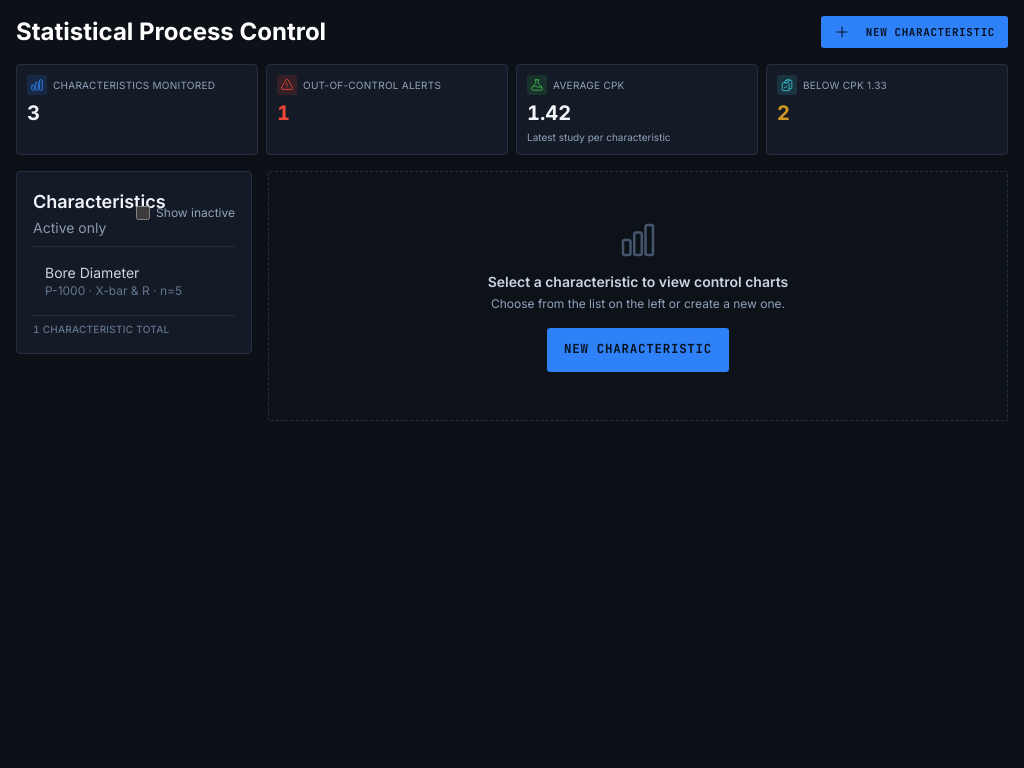
it: SPC page — API contract › renders spec limits, unit and control-limit provenance from the real field names
The image size is (1024, 768).
Click the button "Bore Diameter P-1000 · X-bar & R · n=5" at (132, 280), box 33,254 -> 231,306
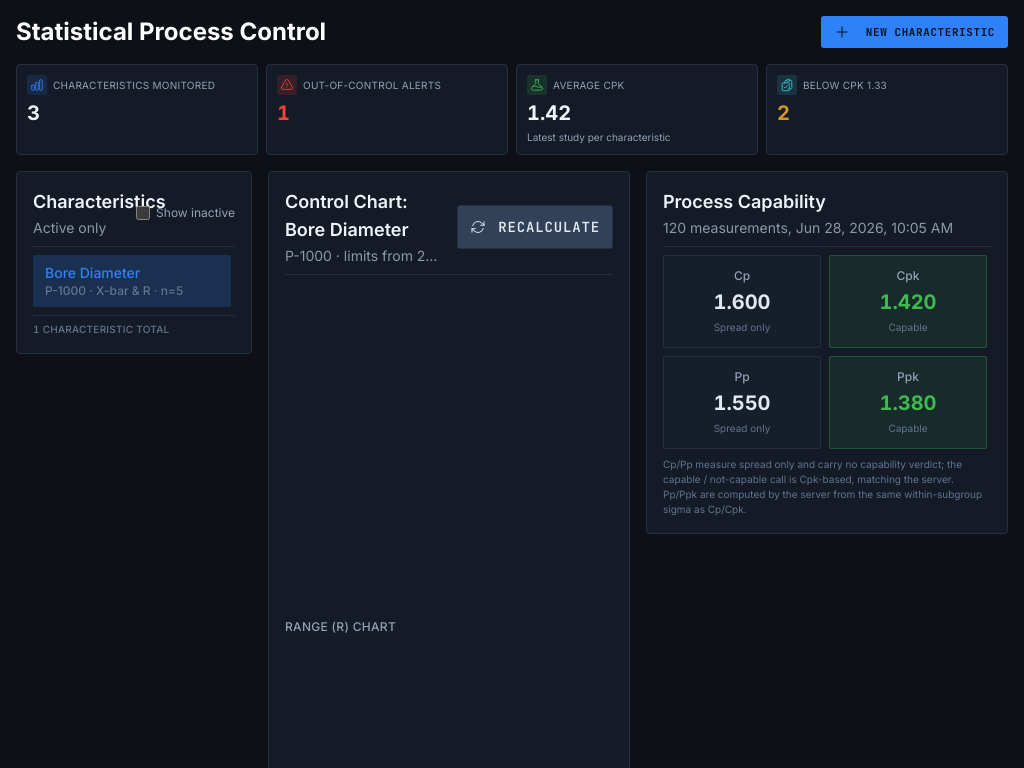
Now the heading "Control Chart: Bore Diameter" is shown, box 285,190 -> 409,240
Now the text "P-1000 · limits from 24 subgroups, Jun 28, 2026, 10:00 AM" is shown, box 285,246 -> 445,266
Now the text "1.600" is shown, box 714,290 -> 771,314
